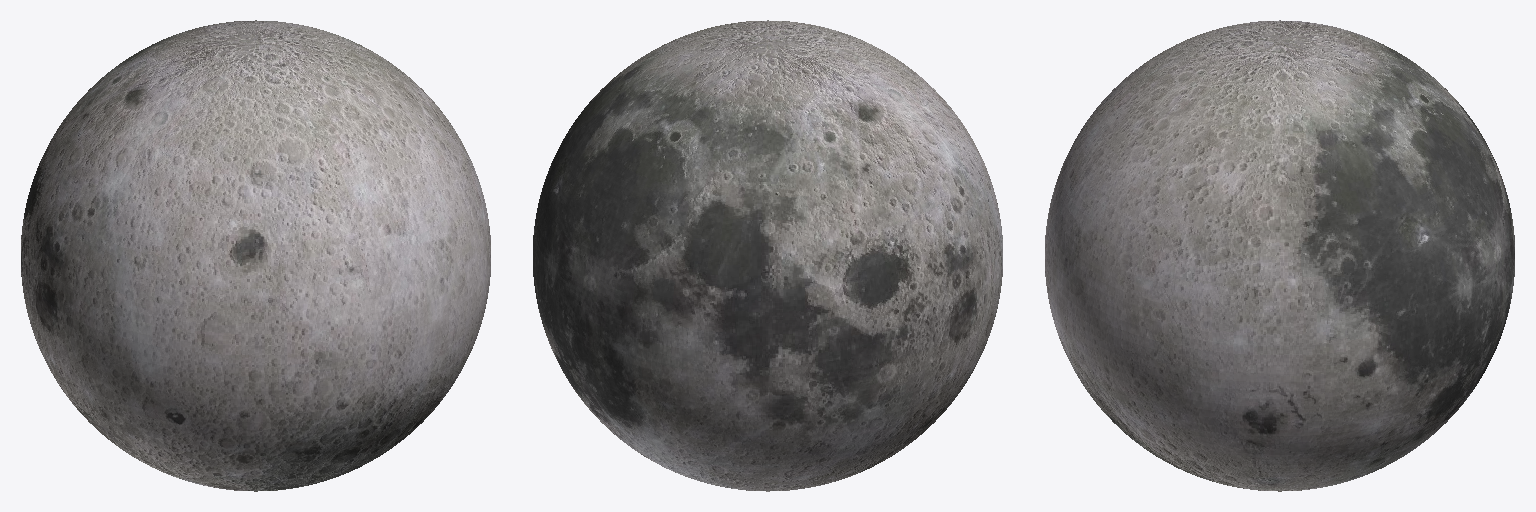
3 renders of one model, left to right at view 1: azimuth 30°, elevation 25°; view 2: azimuth 150°, elevation 25°; view 3: azimuth 270°, elevation 25°, orthographic.
Parts seen in each view (by area): view 1: cylindrically_mapped_sphere.001; view 2: cylindrically_mapped_sphere.001; view 3: cylindrically_mapped_sphere.001.
Part boxes in pixels (bbox=[...]): cylindrically_mapped_sphere.001: bbox=[21, 20, 490, 491]; cylindrically_mapped_sphere.001: bbox=[533, 20, 1002, 491]; cylindrically_mapped_sphere.001: bbox=[1045, 20, 1514, 491].
Bounding box in the file's own units: 1000 × 1000 × 1000.
Materials: 1 (1 with a texture image).